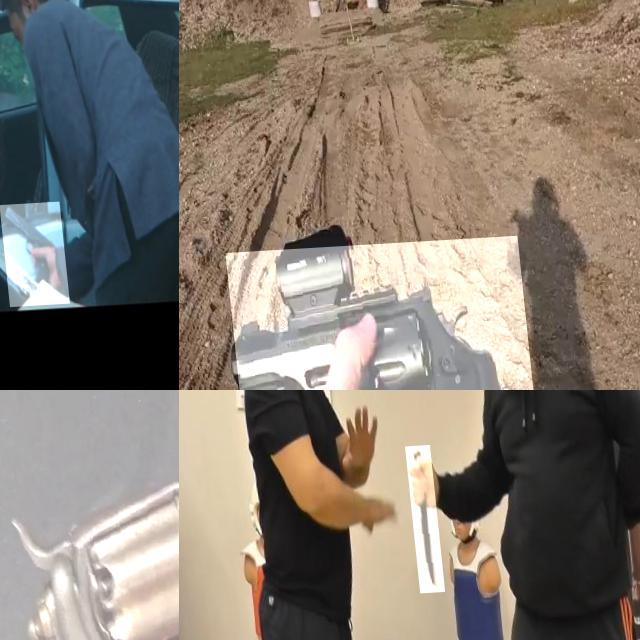-: (397, 450, 434, 598)
gun-knife-thesis - v11 Yolov5 augmented: (217, 241, 532, 390), (0, 390, 179, 640), (0, 206, 57, 311)
